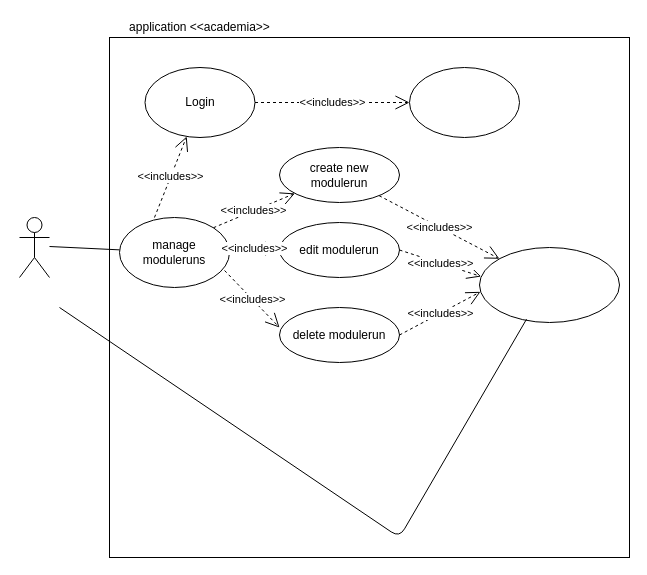
This 647x575 diagram has some shape labels left out. The centre of each missing label's shape, as x and y in pixels:
"Admin" goes at point 34,247.
"authentication as admin" goes at point 464,102.
"see module description changes in view" goes at point 549,284.
